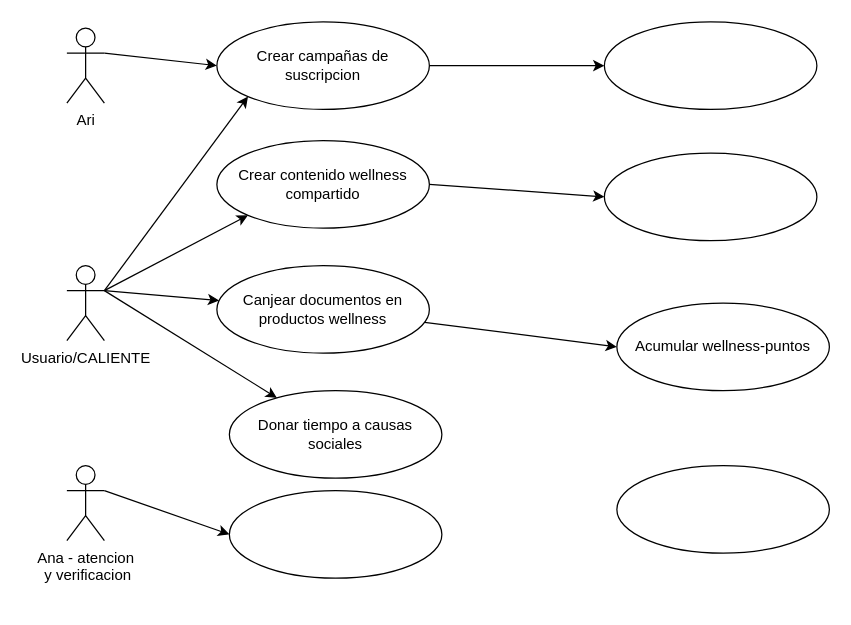
The diagram is 851 pixels wide and 625 high, and some of its shapes have lost their labels. The centre of each missing label's shape, as x and y in pixels:
"Acceder a rutinas premium" belongs at pixel 710 196.
"Atender cosultas de usuarios" belongs at pixel 335 533.
"Auditar puntos y alianzas" belongs at pixel 722 508.
"Establecer alianzas con marcas de salud" belongs at pixel 710 65.
